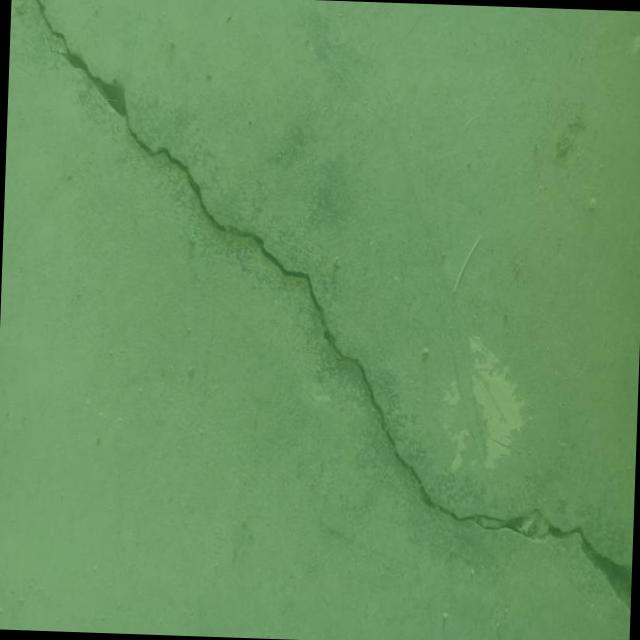crack: (10, 0, 640, 610)
